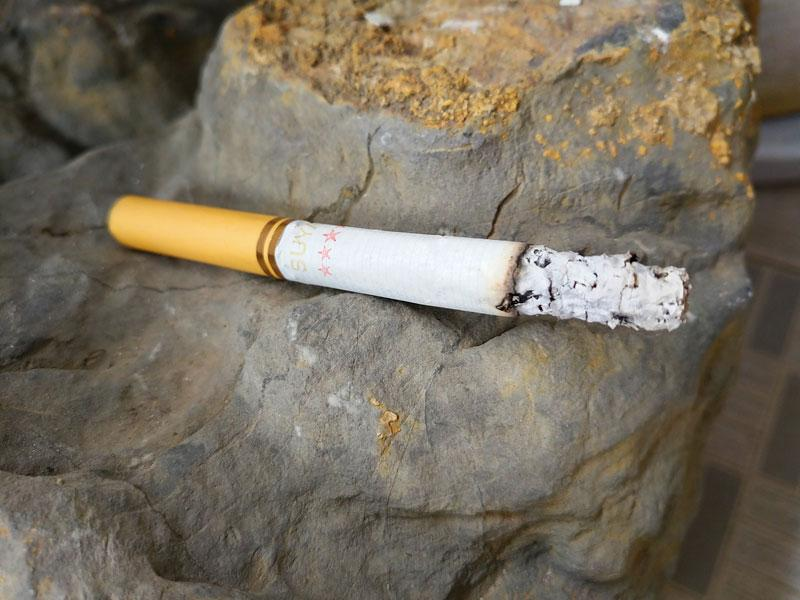smoke: (107, 191, 693, 332)
